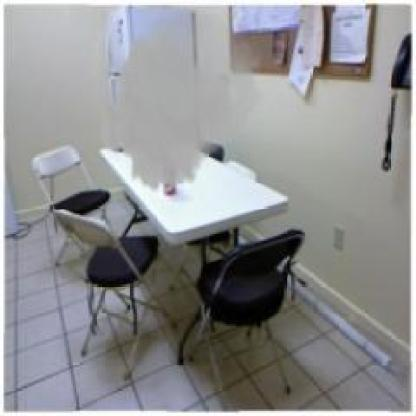Smoke: (98, 13, 268, 195)
